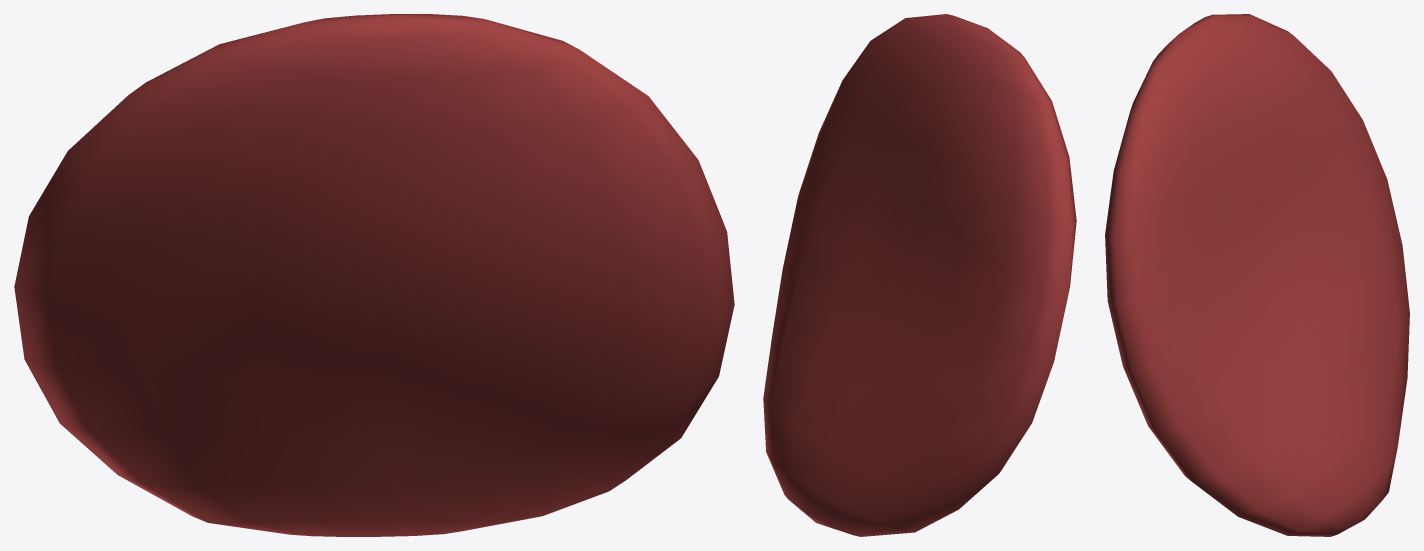
The model's file is coracobrachial-bursa-l.glb.
The picture shows the model from 3 angles, left to right: view 1: azimuth 30°, elevation 25°; view 2: azimuth 150°, elevation 25°; view 3: azimuth 270°, elevation 25°; orthographic projection. The views are drawn at different scales.
Parts seen in each view (by area): view 1: Coracobrachial bursa.l; view 2: Coracobrachial bursa.l; view 3: Coracobrachial bursa.l.
Part boxes in pixels (x1,y1,x2,y2): Coracobrachial bursa.l: (14, 14, 734, 536); Coracobrachial bursa.l: (763, 14, 1076, 536); Coracobrachial bursa.l: (1105, 14, 1409, 536).
Bounding box in the file's own units: 0.0198 × 0.0222 × 0.0137.
